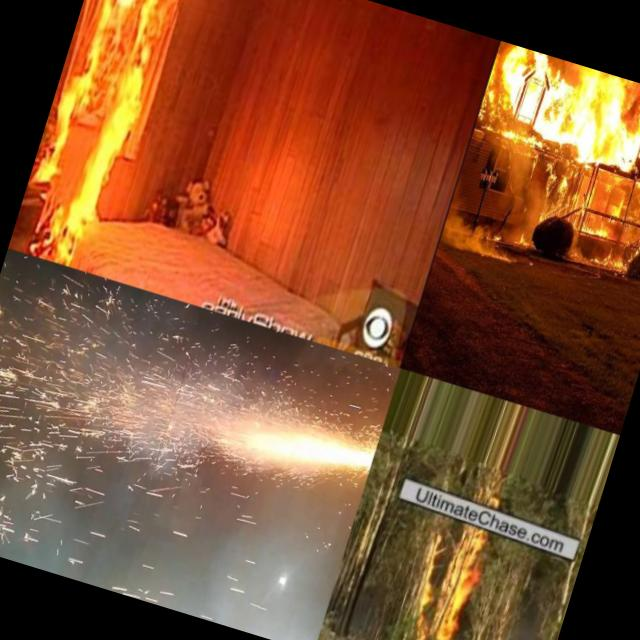fire: (17, 0, 189, 272), (471, 40, 640, 201), (396, 521, 489, 640), (527, 153, 640, 240)
smoke: (513, 197, 640, 295), (437, 190, 523, 268), (485, 143, 541, 210)
